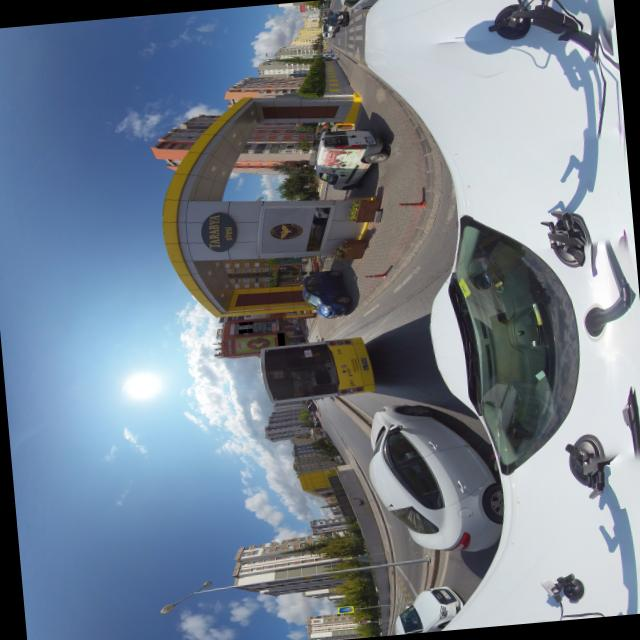SignStore: (277, 331, 285, 345), (243, 320, 248, 324), (248, 327, 252, 331), (239, 328, 243, 332), (243, 328, 247, 332), (248, 320, 253, 323), (239, 321, 243, 324)
